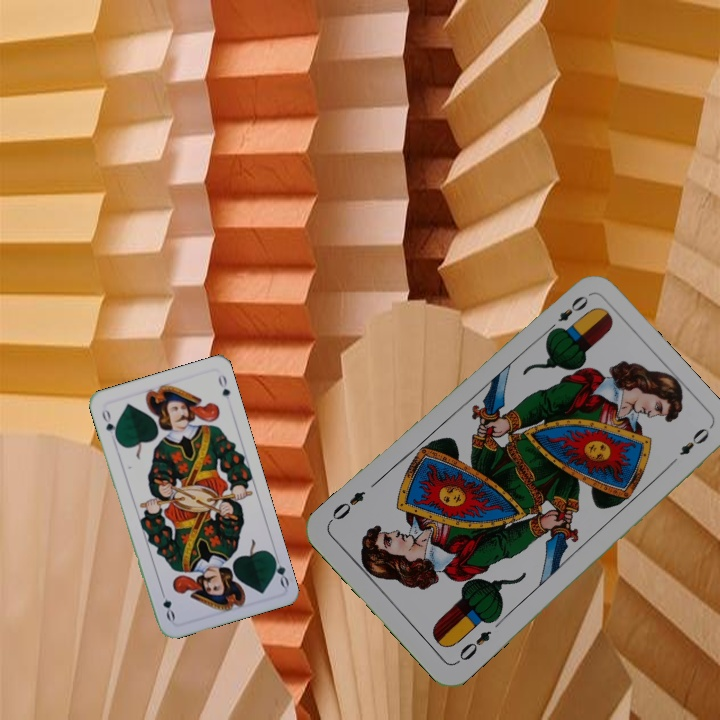EO: (543, 291, 591, 336), (452, 626, 494, 667)
GO: (268, 549, 292, 590), (98, 405, 120, 443)
